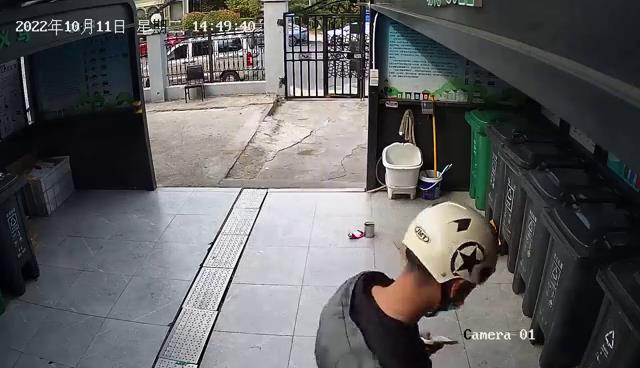lvzhipin: (362, 217, 377, 241), (347, 225, 366, 241)
person: (309, 196, 503, 368)
